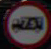Heavy Vehicles: (4, 0, 49, 44)
